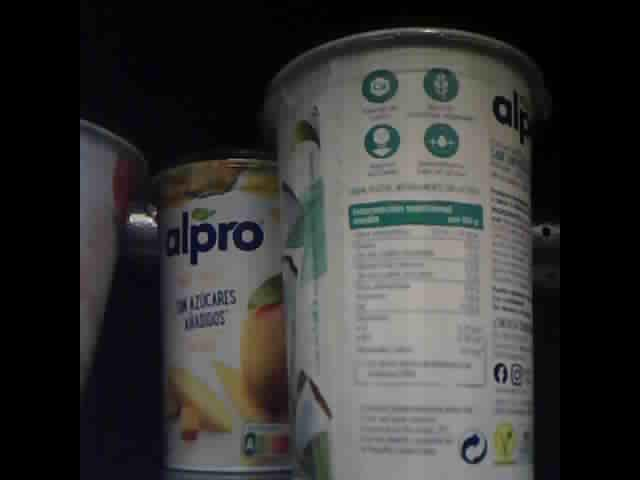alpro: (263, 26, 545, 480), (151, 147, 294, 473), (79, 114, 147, 394)
